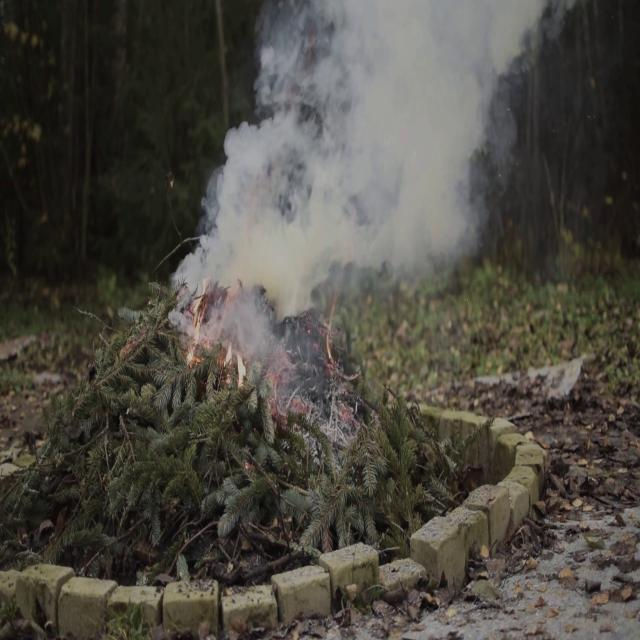Smoke: (169, 0, 547, 326)
